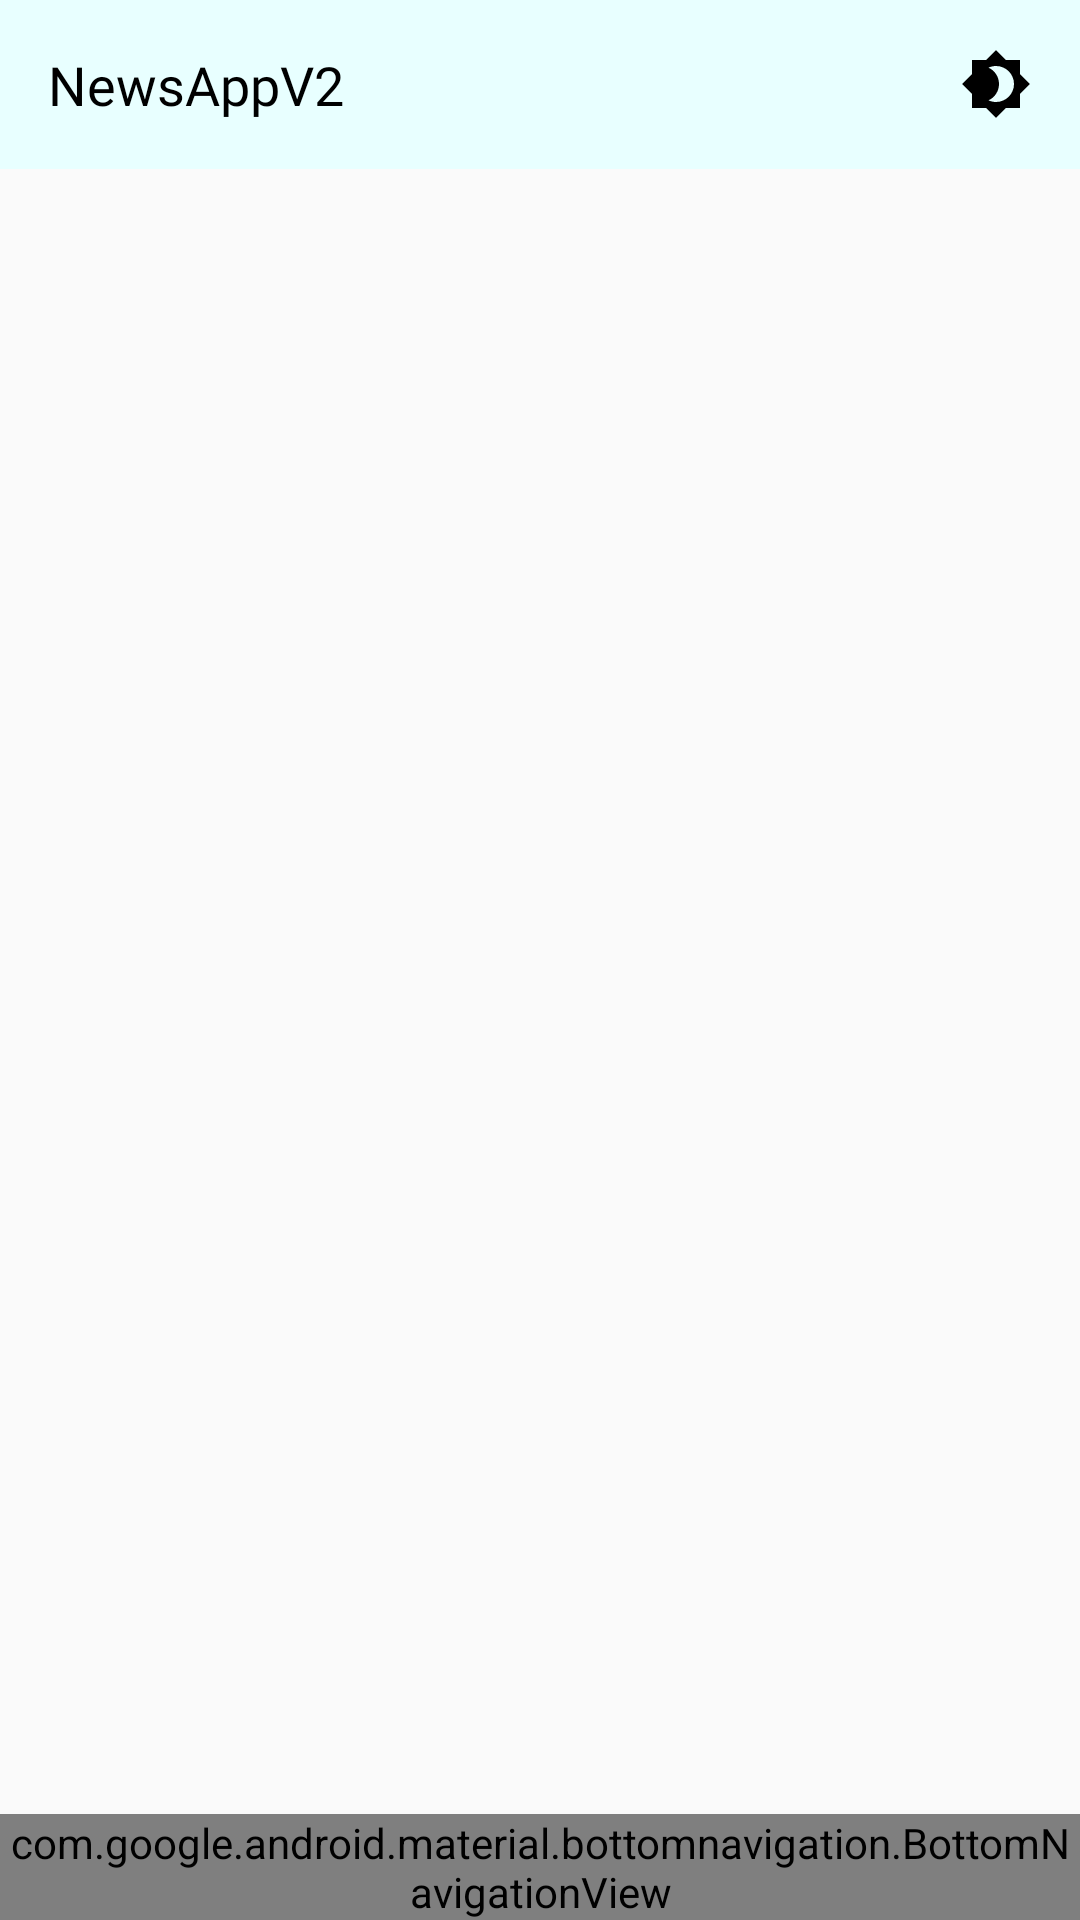

Point at icon controls on the screen. Image size 1080 × 1920, points as (x,y).
Theme: (996,84)
